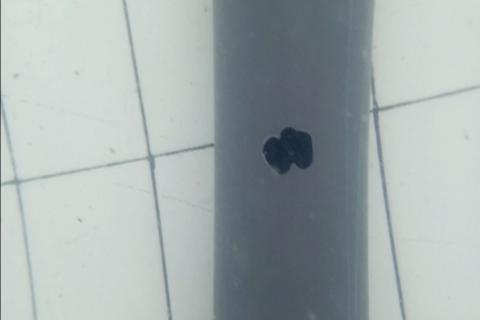kebocoran: (260, 123, 315, 179)
